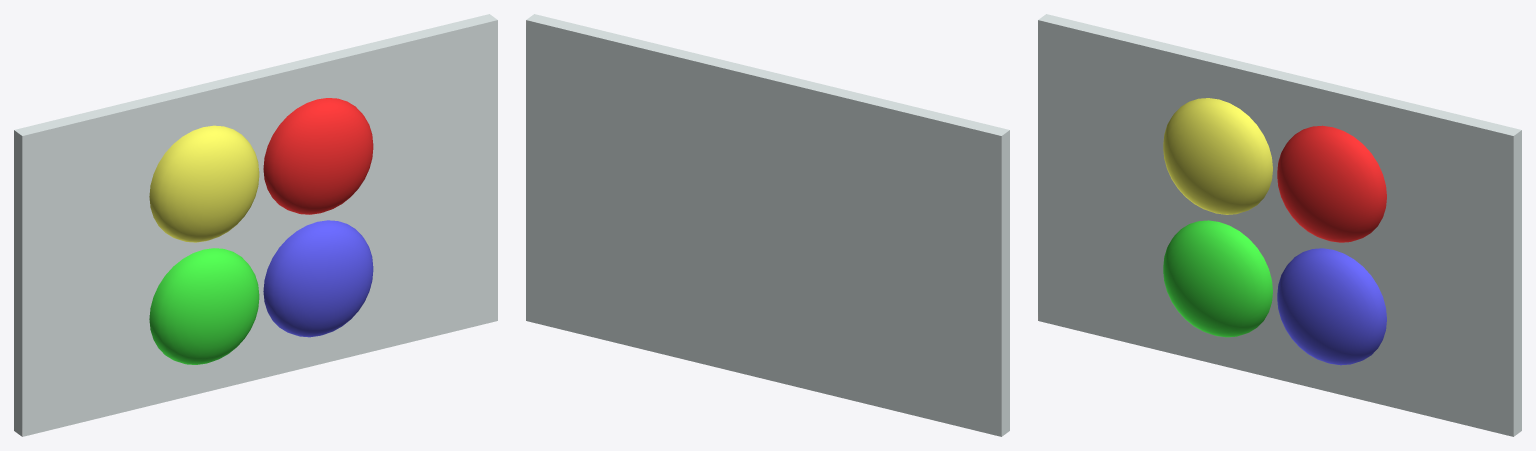
Rendered from Panel.fbx.
3 renders of one model, left to right at view 1: azimuth 30°, elevation 25°; view 2: azimuth 150°, elevation 25°; view 3: azimuth 330°, elevation 25°, orthographic.
Parts seen in each view (by area): view 1: Panel, Red Button, Blue Button, Green Button, Yellow Button; view 2: Panel; view 3: Panel, Green Button, Blue Button, Red Button, Yellow Button.
Part boxes in pixels (<box>): Panel: <box>14,14,497,436</box>; Red Button: <box>263,98,373,214</box>; Blue Button: <box>263,220,373,337</box>; Green Button: <box>149,248,259,364</box>; Yellow Button: <box>149,125,259,242</box>; Panel: <box>526,14,1009,436</box>; Panel: <box>1038,14,1521,436</box>; Green Button: <box>1163,220,1272,337</box>; Blue Button: <box>1277,248,1386,365</box>; Red Button: <box>1277,125,1386,242</box>; Yellow Button: <box>1163,98,1272,214</box>.
Bounding box in the file's own units: 8.27 × 5 × 0.738.
